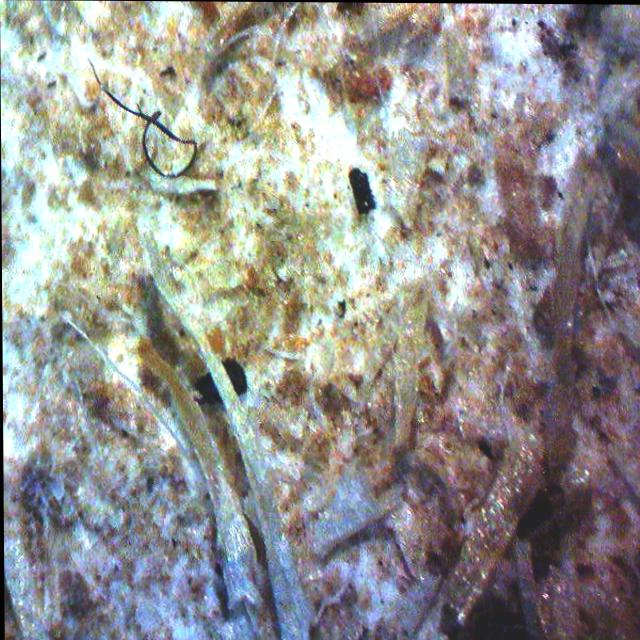microplastic: (112, 103, 204, 186), (81, 60, 141, 122)
